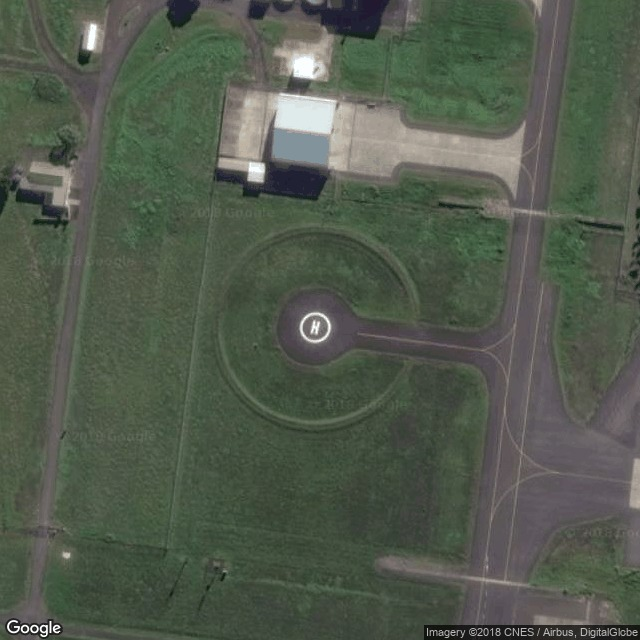heliport: (308, 318, 322, 336)
